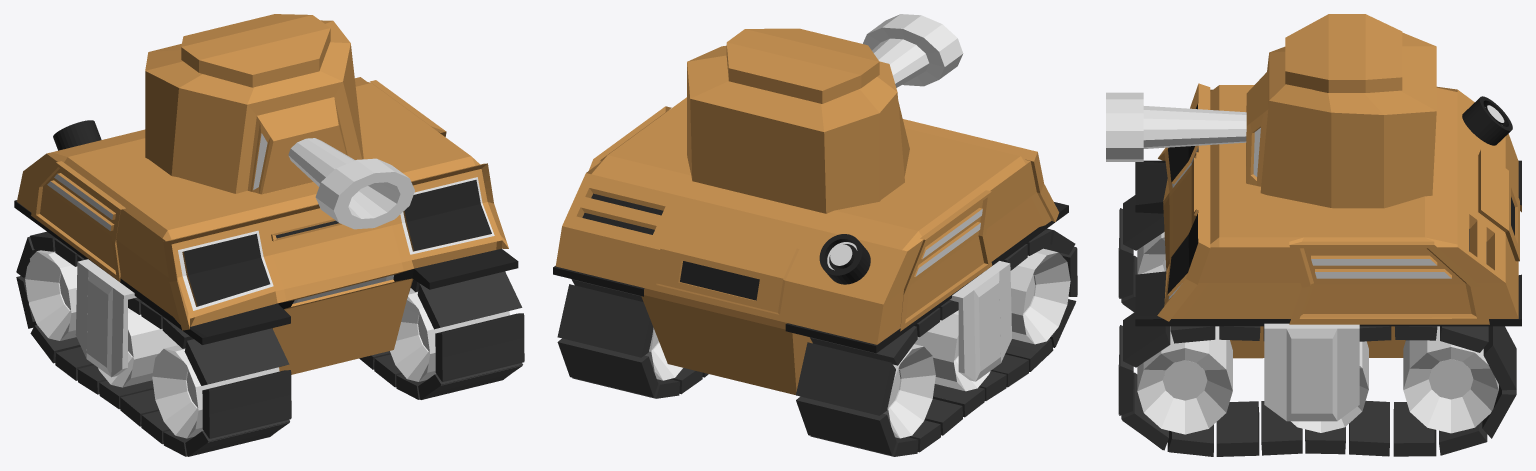
Rendered from tank5(material).fbx.
The picture shows the model from 3 angles, left to right: view 1: azimuth 30°, elevation 25°; view 2: azimuth 150°, elevation 25°; view 3: azimuth 270°, elevation 25°; orthographic projection. The views are drawn at different scales.
Visible parts, largest first — view 1: Cube, ndase, Cube.000, Cylinder.001, Cube.001, Cylinder, Cylinder.002; view 2: Cube, ndase, Cube.000, Cylinder.001, Cube.001, Cylinder.002, Cylinder; view 3: Cube, ndase, Cylinder, Cube.001, Cube.000, Cylinder.002, Cylinder.001.
Part boxes in pixels (x1,y1,x2,y2): Cube: (14,77,518,374); ndase: (145,14,414,229); Cube.000: (16,231,291,456); Cylinder.001: (25,250,279,438); Cube.001: (359,271,524,399); Cylinder: (390,288,509,381); Cylinder.002: (53,120,101,150); Cube: (553,97,1068,394); ndase: (687,14,963,213); Cube.000: (796,228,1077,456); Cylinder.001: (883,248,1070,438); Cube.001: (557,279,708,398); Cylinder.002: (819,234,870,284); Cylinder: (645,328,682,380); Cube: (1135,83,1521,358); ndase: (1106,14,1436,208); Cylinder: (1137,323,1498,434); Cube.001: (1118,312,1516,456); Cube.000: (1118,195,1164,312); Cylinder.002: (1462,96,1512,145); Cylinder.001: (1137,232,1166,274).
Bounding box in the file's own units: 855 × 765 × 871.
